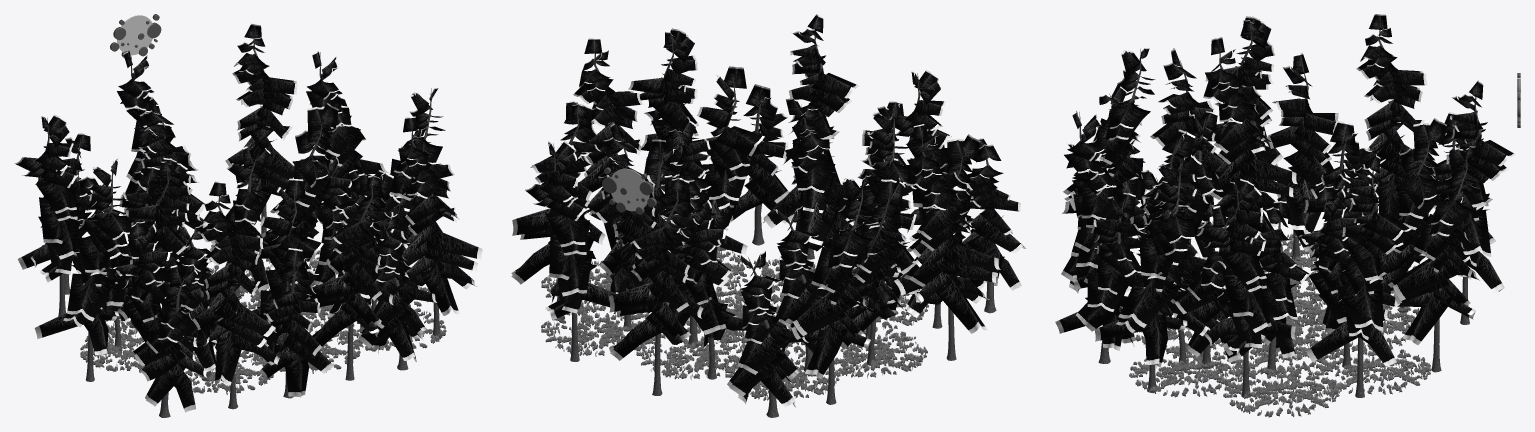
Rendered from Forest.fbx.
3 renders of one model, left to right at view 1: azimuth 30°, elevation 25°; view 2: azimuth 150°, elevation 25°; view 3: azimuth 270°, elevation 25°, orthographic. The views are drawn at different scales.
Parts seen in each view (by area): view 1: Trees, Grass, NVJOB; view 2: Trees, Grass, NVJOB; view 3: Trees, Grass.
Boxes of the visible parts, bbox=[...] form: Trees: bbox=[14, 23, 482, 417]; Grass: bbox=[80, 250, 446, 394]; NVJOB: bbox=[110, 14, 161, 57]; Trees: bbox=[511, 14, 1026, 417]; Grass: bbox=[541, 246, 928, 400]; NVJOB: bbox=[602, 167, 656, 214]; Trees: bbox=[1055, 14, 1515, 397]; Grass: bbox=[1129, 233, 1431, 417].
Size of what is drawn, in the model's own units: 4125 by 2232 by 3859.
